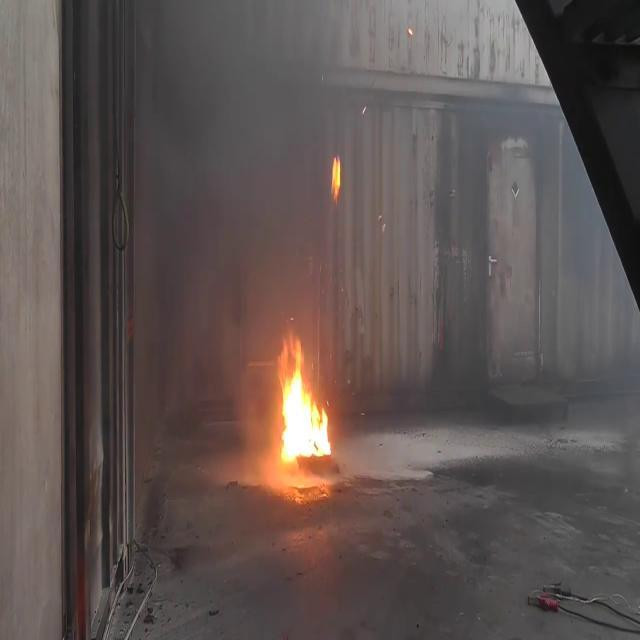Fire: (272, 328, 334, 470)
Smoke: (124, 0, 385, 343)
